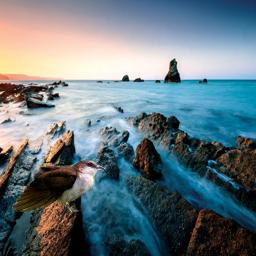Cuckoo: (12, 123, 107, 216)
